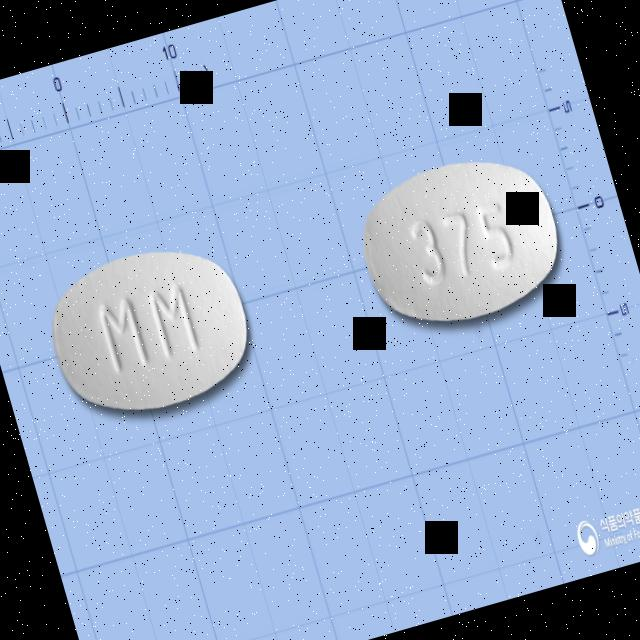Amoclan - Myungmoon: (32, 224, 268, 436), (346, 136, 576, 340)
